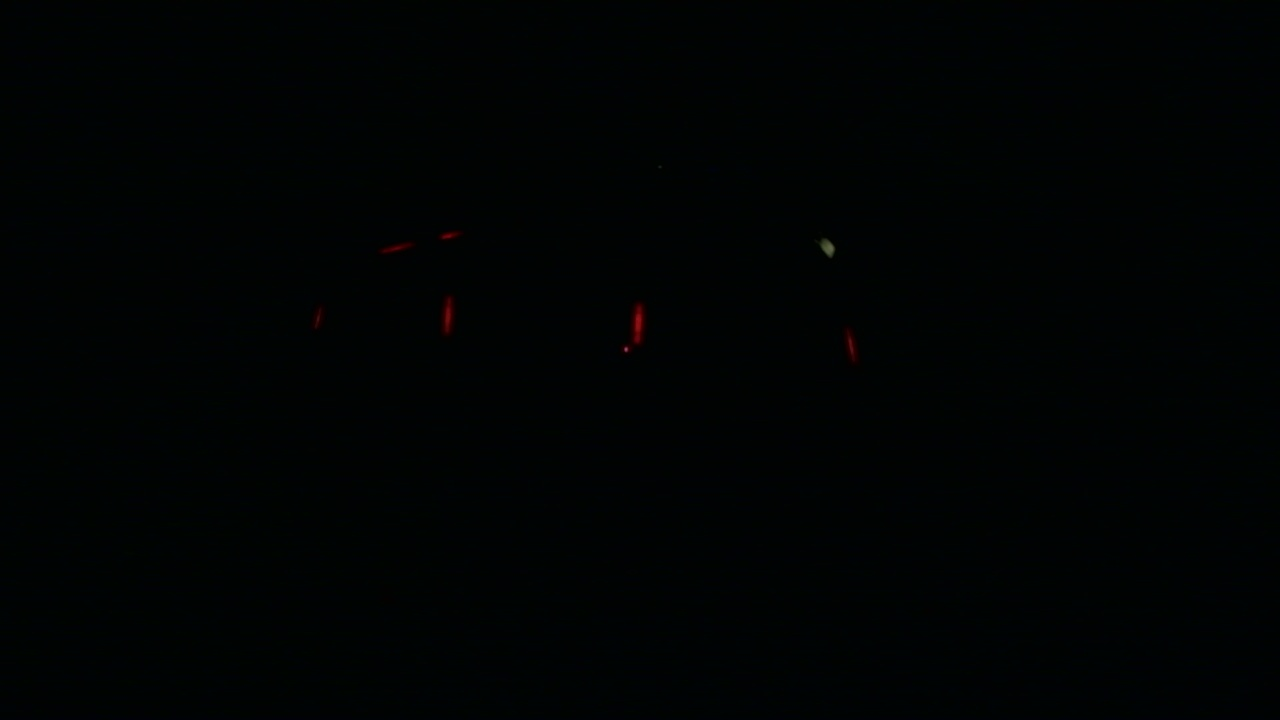lamp: (629, 293, 642, 346), (439, 292, 450, 347)
pair2: (440, 294, 645, 348)
